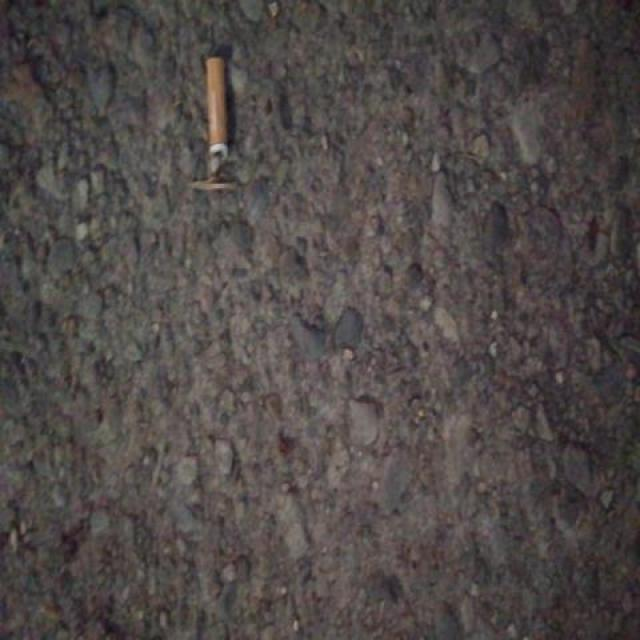non-organic waste: (201, 51, 235, 180)
